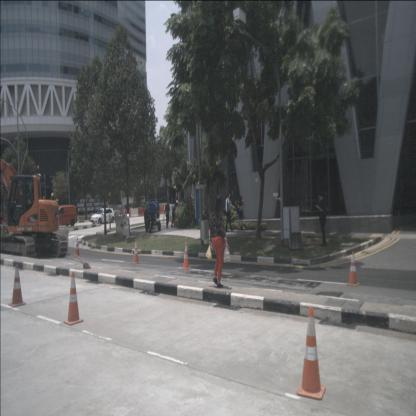human-pedestrian-adult: (206, 194, 228, 288), (314, 190, 329, 247), (224, 191, 235, 232), (237, 194, 245, 230), (163, 198, 171, 230)
movable_object-barrier: (53, 227, 70, 256), (121, 208, 130, 217), (130, 208, 139, 217), (167, 204, 176, 212), (138, 207, 145, 216), (158, 206, 165, 214)
movable_object-trafficcone: (296, 306, 326, 400), (62, 271, 83, 324), (8, 264, 26, 306), (346, 251, 359, 285), (181, 243, 191, 269), (132, 241, 140, 264), (74, 237, 81, 257)
vehicle-car: (53, 205, 78, 227), (91, 208, 115, 224)
